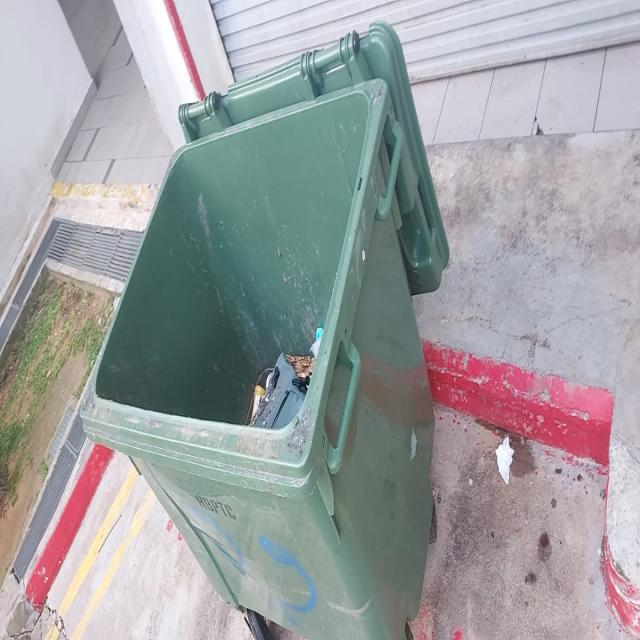bin_empty: (83, 22, 429, 640)
